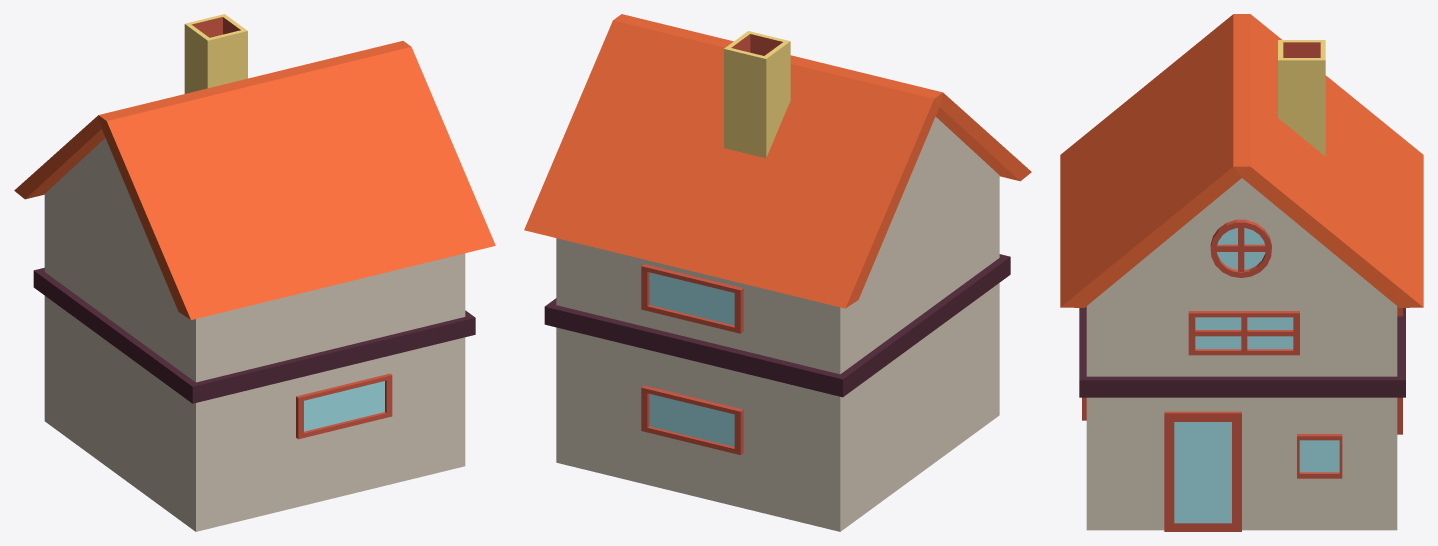
The model's file is house_1.fbx.
The picture shows the model from 3 angles, left to right: view 1: azimuth 30°, elevation 25°; view 2: azimuth 150°, elevation 25°; view 3: azimuth 270°, elevation 25°; orthographic projection. The views are drawn at different scales.
Parts seen in each view (by area): view 1: house_1; view 2: house_1; view 3: house_1.
Part boxes in pixels (box(x1,y1,x2,y2)): house_1: box(14, 14, 495, 531); house_1: box(524, 14, 1031, 531); house_1: box(1060, 14, 1423, 531).
Size of the model in its own units: 5.29 by 6.56 by 5.29.
